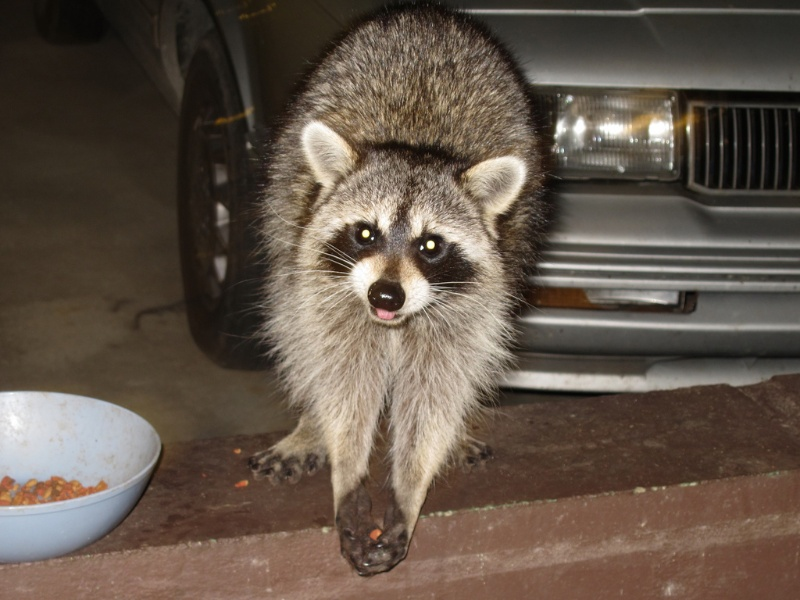raccoon: (252, 11, 547, 572)
